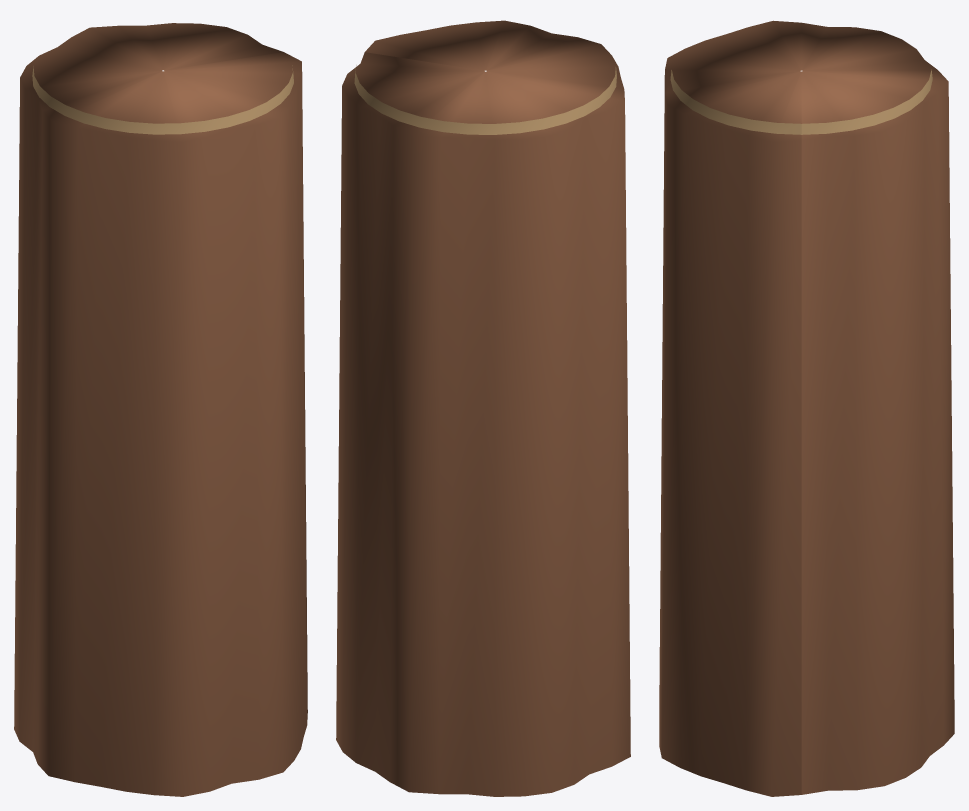
Rendered from log.glb.
The picture shows the model from 3 angles, left to right: view 1: azimuth 30°, elevation 25°; view 2: azimuth 150°, elevation 25°; view 3: azimuth 270°, elevation 25°; orthographic projection.
Parts seen in each view (by area): view 1: log_bark, end_grain; view 2: log_bark, end_grain; view 3: log_bark, end_grain.
Boxes of the visible parts, <box> form: log_bark: <box>14,23,307,796</box>; end_grain: <box>32,65,293,134</box>; log_bark: <box>336,20,630,796</box>; end_grain: <box>354,65,616,134</box>; log_bark: <box>659,20,954,796</box>; end_grain: <box>670,69,932,134</box>.
Size of the model in its own units: 0.2581 by 0.642 by 0.2547.
